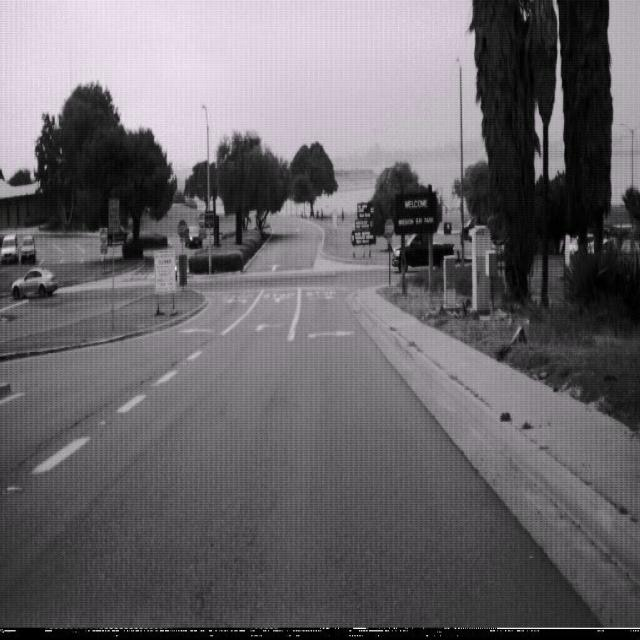stop_sign: (384, 217, 394, 238), (177, 217, 187, 238)
